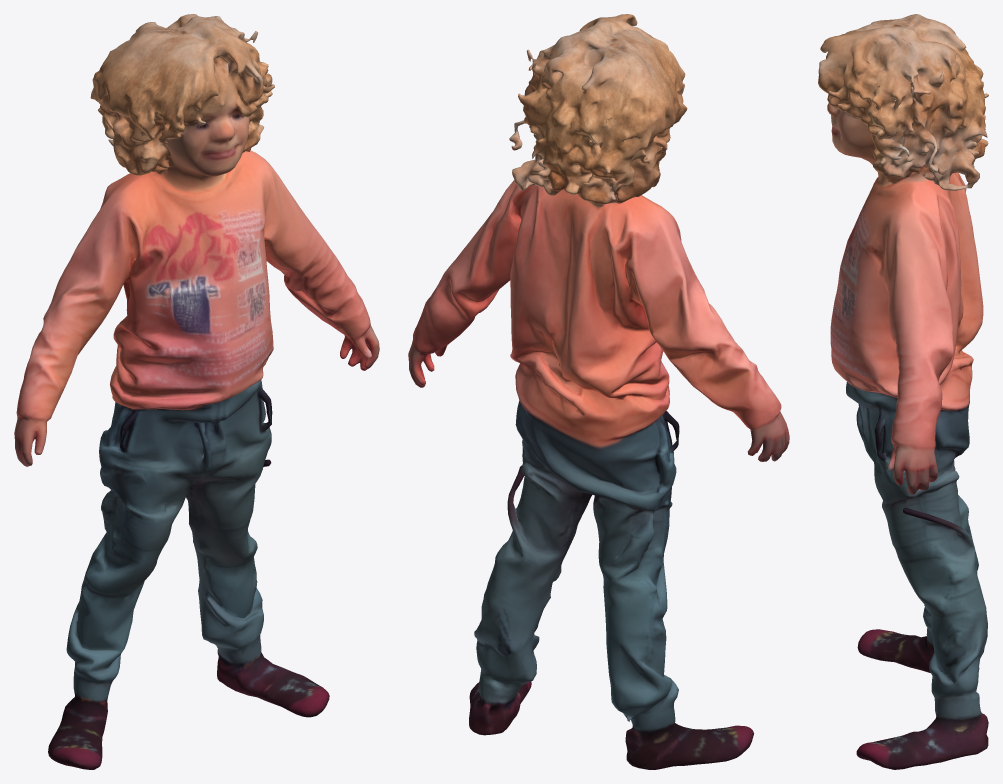
The model's file is Jordan_game.obj.
3 renders of one model, left to right at view 1: azimuth 30°, elevation 25°; view 2: azimuth 150°, elevation 25°; view 3: azimuth 270°, elevation 25°, orthographic. The views are drawn at different scales.
Visible parts, largest first — view 1: Jordan_game; view 2: Jordan_game; view 3: Jordan_game.
Part boxes in pixels (left/top/right/bottom): Jordan_game: left=14, top=14, right=379, bottom=769; Jordan_game: left=408, top=14, right=789, bottom=769; Jordan_game: left=818, top=14, right=988, bottom=769.
Size of the model in its own units: 0.5455 by 0.9997 by 0.2249.
Materials: 1 (1 with a texture image).
